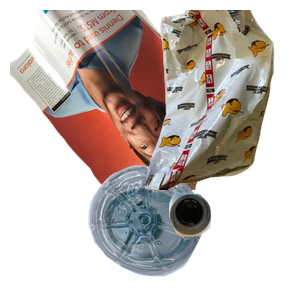glass: (166, 190, 300, 300)
paper: (10, 10, 250, 190)
plastic: (86, 163, 282, 300)
trash: (127, 10, 300, 190)
